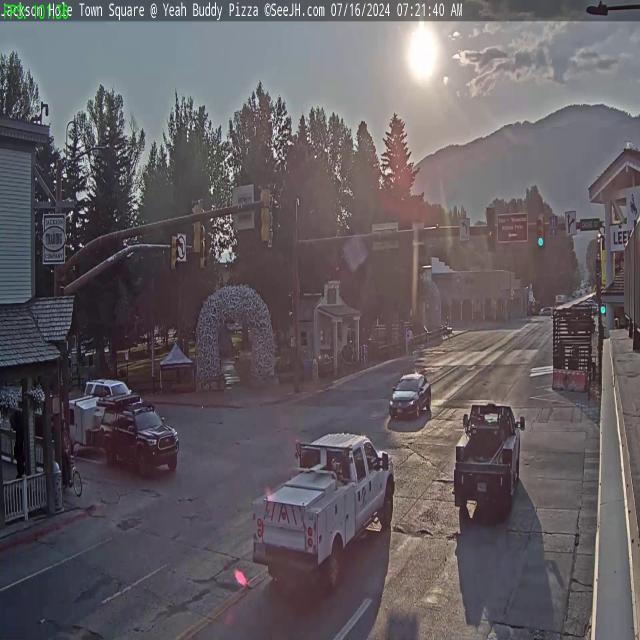bike: (52, 458, 84, 496)
person: (58, 416, 72, 484)
pickup: (446, 400, 528, 520)
sedan: (388, 372, 433, 424)
suv: (98, 412, 182, 474), (86, 375, 142, 414)
traffic light: (190, 198, 204, 254), (260, 184, 273, 244), (486, 207, 496, 250), (537, 214, 546, 248)
truck: (249, 430, 398, 599)
